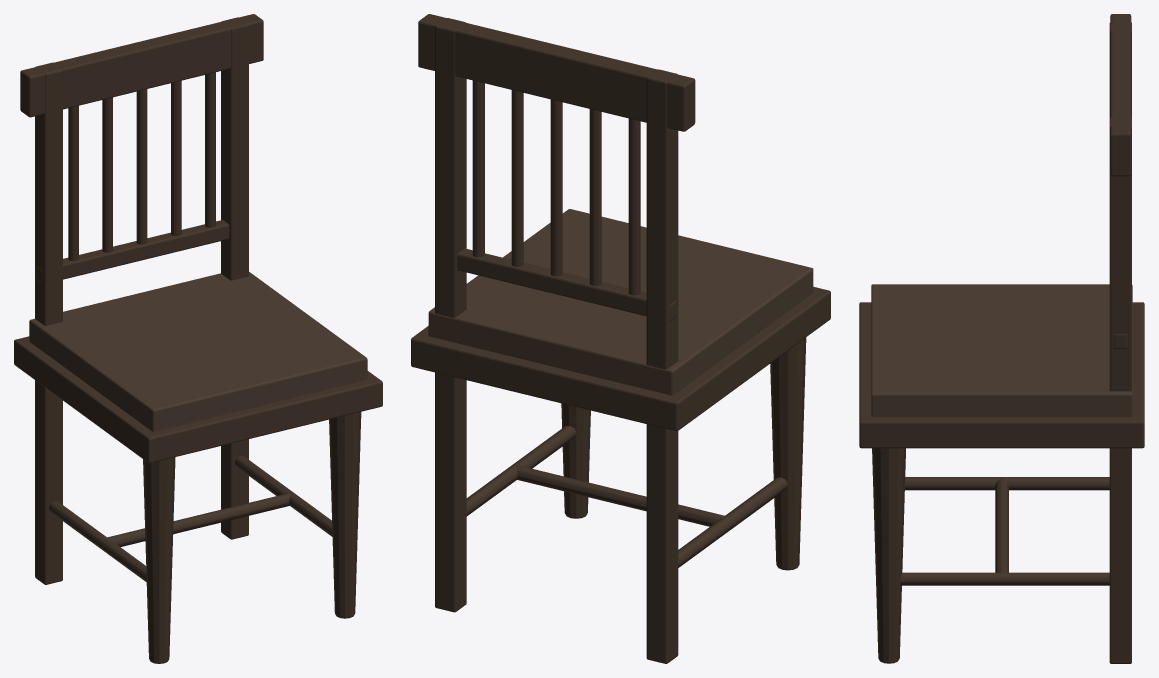
Rendered from SM_Furniture_Chair_01.glb.
3 views of the same model, side by side, from view 1: azimuth 30°, elevation 25°; view 2: azimuth 150°, elevation 25°; view 3: azimuth 270°, elevation 25° (orthographic). The views are drawn at different scales.
Parts seen in each view (by area): view 1: SM_Furniture_Chair_01; view 2: SM_Furniture_Chair_01; view 3: SM_Furniture_Chair_01.
Boxes of the visible parts, x1,y1,x2,y2 form: SM_Furniture_Chair_01: (14,14,382,663); SM_Furniture_Chair_01: (411,14,830,663); SM_Furniture_Chair_01: (859,14,1144,663).
Bounding box in the file's own units: 0.48 × 1 × 0.48.
